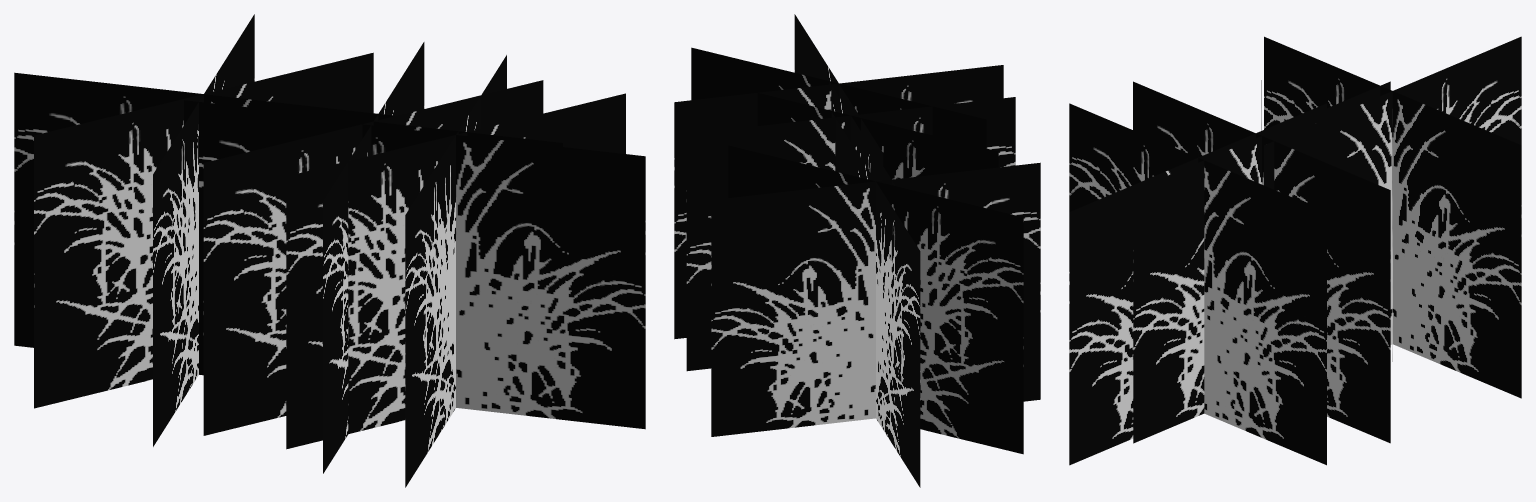
The model's file is glass302.obj.
3 renders of one model, left to right at view 1: azimuth 30°, elevation 25°; view 2: azimuth 150°, elevation 25°; view 3: azimuth 270°, elevation 25°, orthographic. The views are drawn at different scales.
Visible parts, largest first — view 1: glass302; view 2: glass302; view 3: glass302.
Part boxes in pixels (x1,y1,x2,y2): glass302: (14,14,645,487); glass302: (674,14,1040,487); glass302: (1069,36,1521,465).
Bounding box in the file's own units: 33.81 × 18.1 × 29.29.
